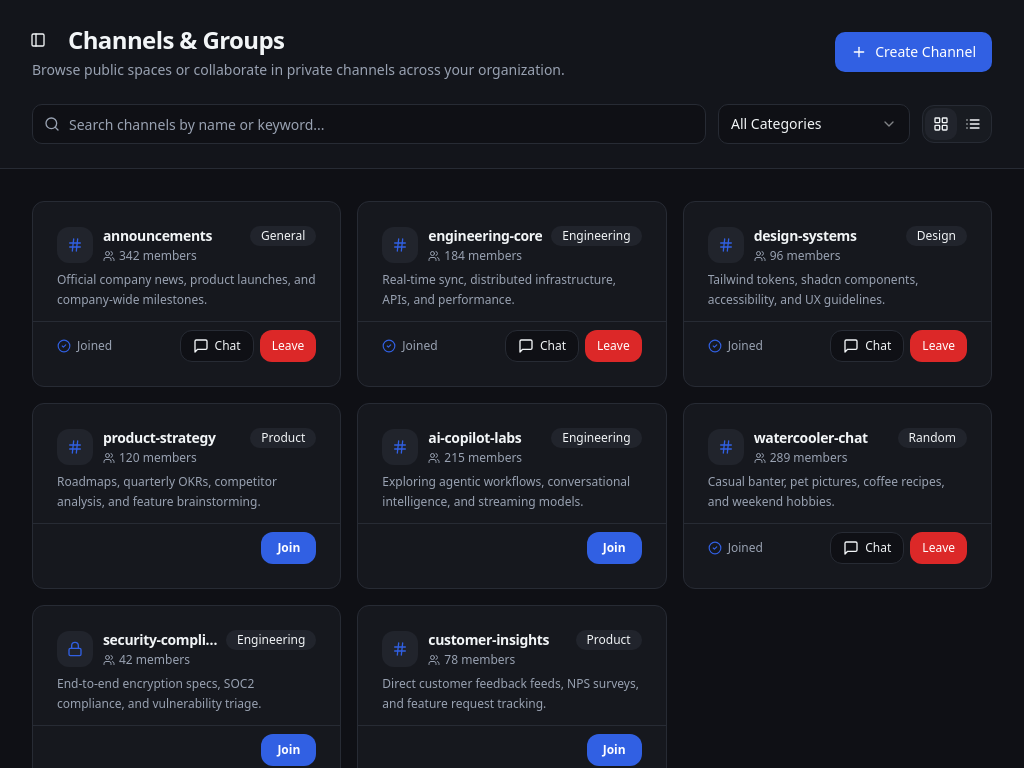
Channels and navigation › renders fetched channels and filters search results
The width and height of the screenshot is (1024, 768).
Expected: the text "announcements" is shown, x1=103 y1=226 x2=212 y2=245
Step 1. Type "design" into the field with placeholder "Search channels by name or keyword..." → (369, 124), box x1=32 y1=104 x2=706 y2=144
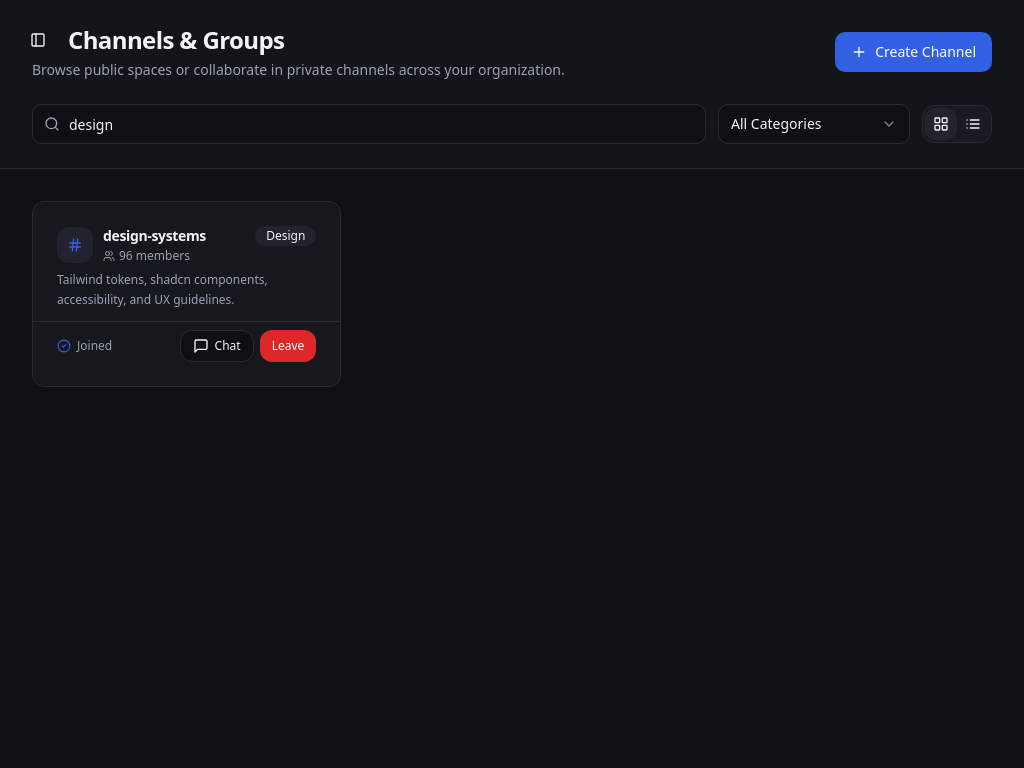
Expected: the text "design-systems" is shown, x1=103 y1=226 x2=206 y2=245
Expected: the text "watercooler-chat" is gone
